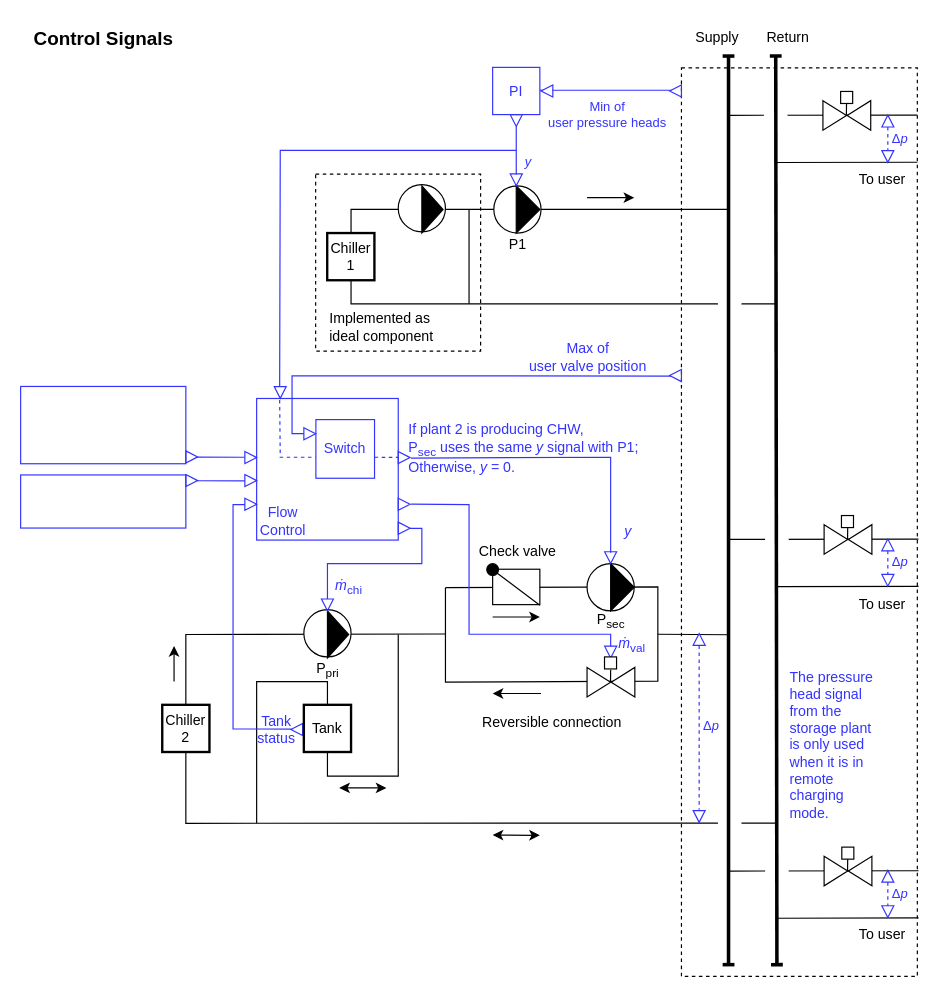
The diagram is 940 pixels wide and 997 high, and some of its shapes have lost their labels. The centre of each missing label's shape, as x and y in pixels:
Command for chiller - Enable - Disable: pixel 102 501
Command for tank: - Charge - No Command - Discharge: pixel 102 424
